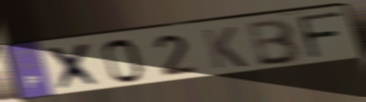0: (101, 37, 147, 84)
2: (152, 33, 201, 78)
B: (246, 17, 304, 68)
F: (295, 10, 345, 61)
K: (199, 25, 250, 71)
X: (44, 40, 106, 94)
